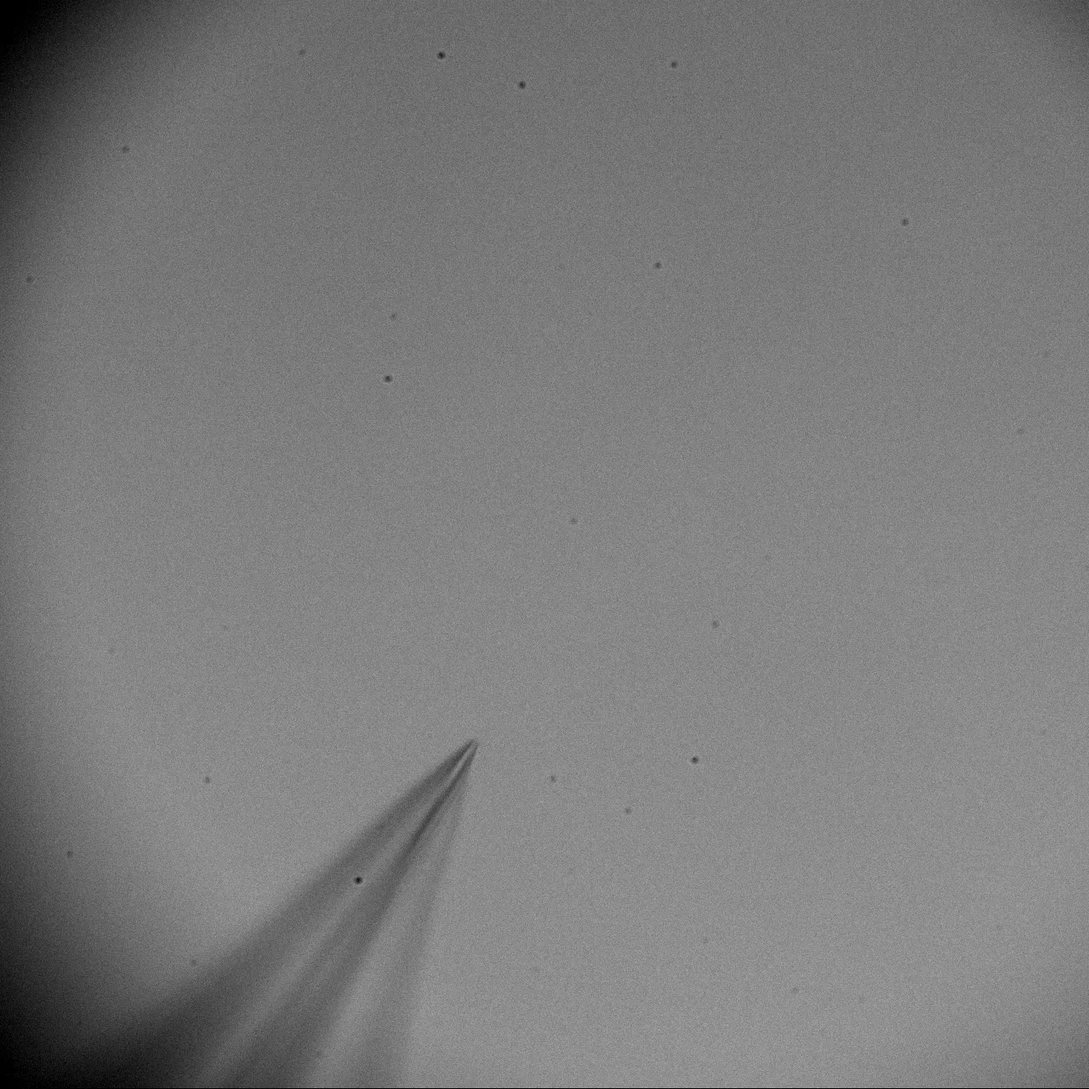tip: (408, 724, 498, 840)
